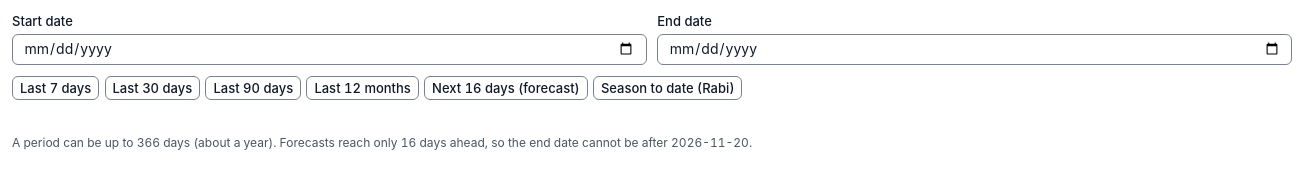
DateRangeField › applies the "Last 7 days" preset to both fields
What coordinates should you click on to do the following:
click the button "Last 7 days"
I would click on:
 (56, 88)
Its box is [12, 76, 99, 100].
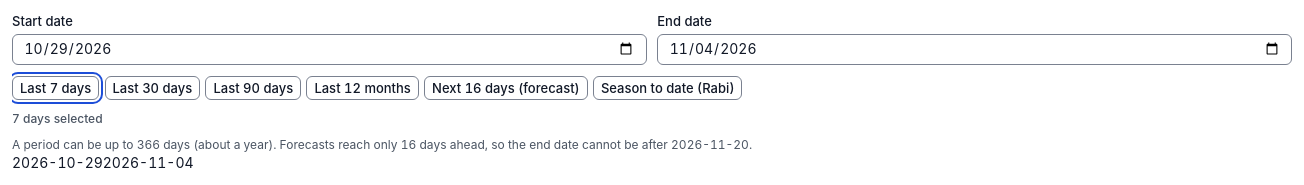
Now the date field labelled "Start date" holds "2026-10-29", box [12, 34, 647, 65]
Now the date field labelled "End date" holds "2026-11-04", box [657, 34, 1292, 65]
